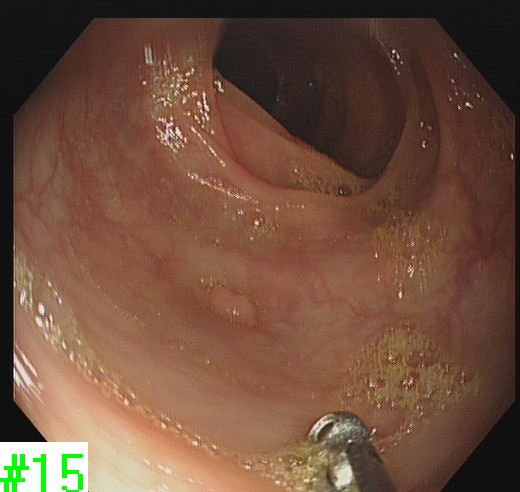adenoma: (204, 284, 262, 331)
